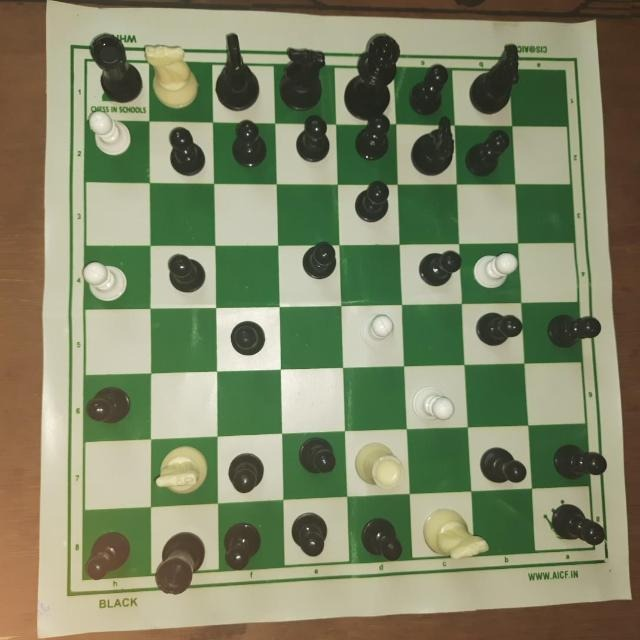black-knight: (215, 30, 266, 118), (466, 40, 520, 118), (278, 38, 329, 118), (411, 117, 459, 179)
black-pawn: (546, 501, 611, 548), (548, 437, 608, 486), (78, 529, 133, 580), (543, 307, 600, 355), (162, 125, 211, 179), (466, 128, 512, 181), (411, 59, 455, 114), (479, 444, 531, 490), (355, 110, 393, 171), (357, 519, 403, 569), (82, 387, 132, 432), (416, 243, 465, 287), (230, 116, 268, 170), (474, 308, 524, 349), (291, 116, 331, 167), (164, 252, 208, 298), (222, 522, 259, 576), (288, 512, 330, 559), (294, 434, 338, 478), (225, 451, 266, 494), (353, 184, 393, 224), (304, 240, 340, 281), (226, 319, 266, 355)
black-queen: (332, 33, 407, 125)
black-rook: (87, 33, 145, 104), (151, 526, 205, 593)
white-knight: (146, 42, 208, 114), (420, 505, 489, 567), (154, 445, 210, 495)
white-pawn: (82, 108, 133, 162), (78, 258, 133, 300), (470, 248, 518, 294), (410, 383, 459, 424), (358, 309, 399, 357)
white-rook: (352, 440, 412, 492)
